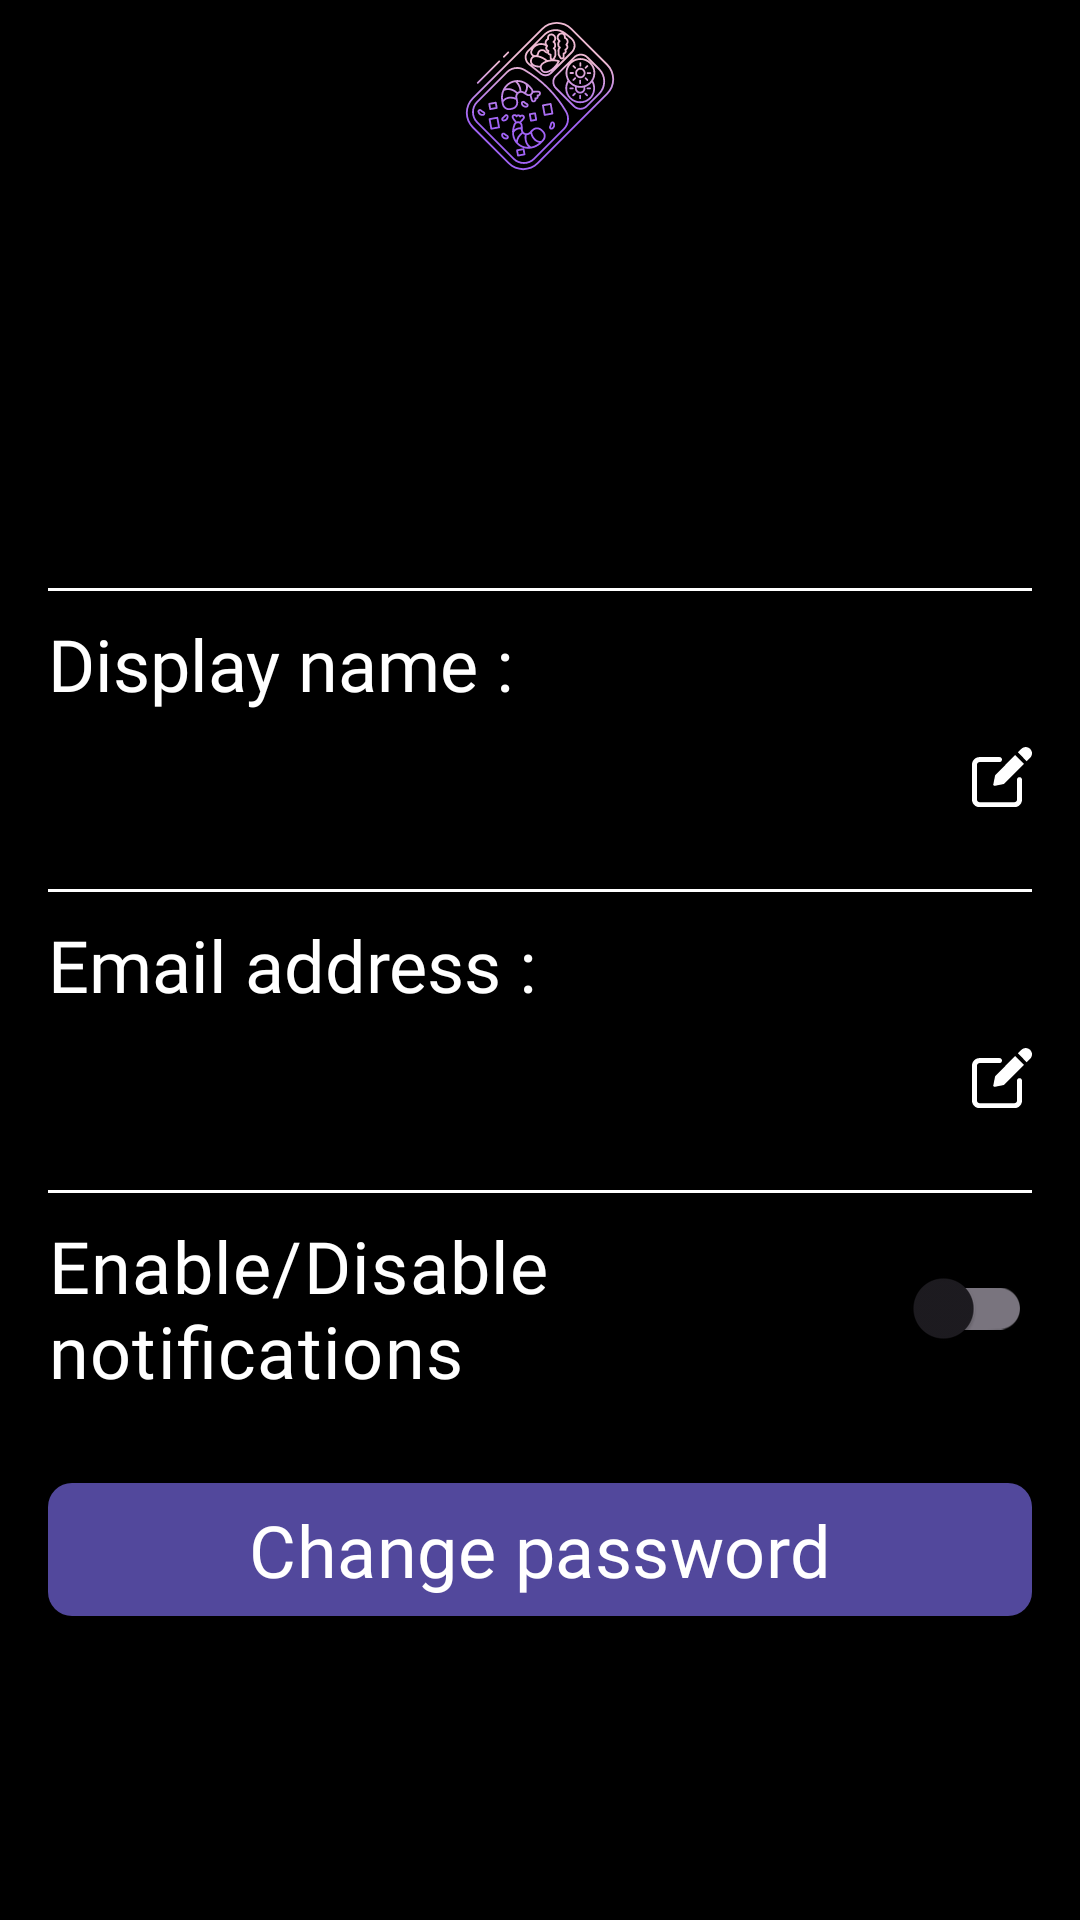

Named icons in this screenshot (1080 × 1920) and their centers, (x,y):
edit: (1002,777), (1002,1078)
lunchbox toolbar size: (540,96)
